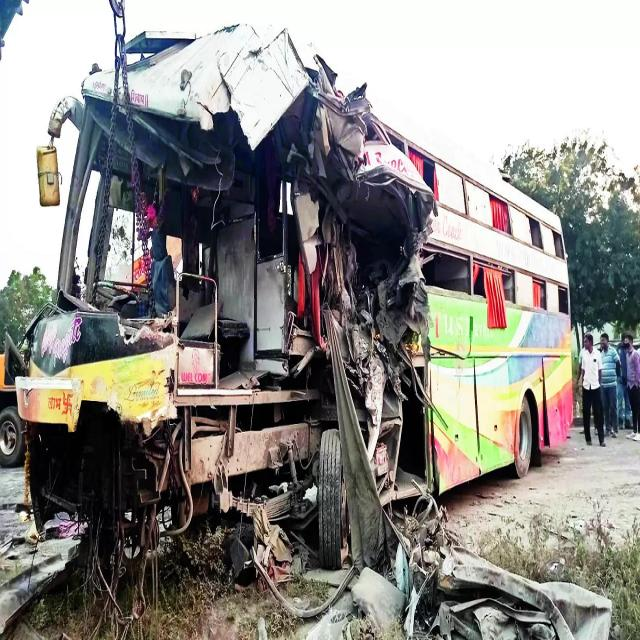accident: (11, 7, 610, 640)
